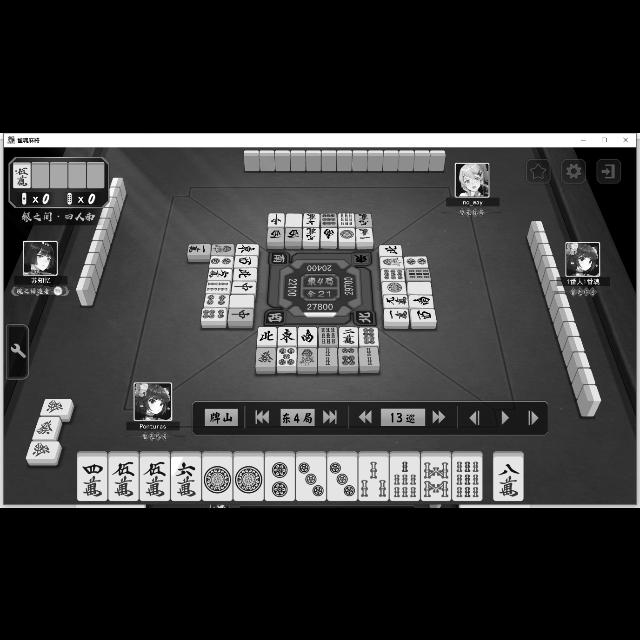1m: (383, 306, 409, 322), (356, 226, 374, 242), (188, 242, 210, 255)
1p: (202, 456, 232, 500), (234, 456, 264, 500), (382, 280, 408, 294), (337, 226, 355, 242)
1s: (296, 346, 318, 368), (211, 242, 235, 256), (380, 256, 404, 268)
2m: (339, 326, 359, 346)
2p: (265, 456, 295, 500), (211, 254, 233, 268), (404, 254, 428, 266)
2s: (318, 346, 338, 366), (360, 346, 380, 366)
3p: (295, 456, 327, 499), (327, 456, 358, 500)
3s: (359, 456, 388, 500)
4m: (77, 456, 107, 498)
4p: (205, 294, 228, 308)
4s: (206, 281, 230, 293)
5m: (108, 454, 140, 500), (140, 456, 168, 499), (14, 162, 31, 188)
5p: (276, 346, 296, 366)
6m: (170, 456, 202, 500), (206, 267, 232, 279)
6p: (339, 346, 358, 366), (200, 307, 226, 321)
7m: (304, 212, 320, 226)
7s: (390, 456, 420, 500)
8m: (493, 456, 523, 500)
8p: (358, 326, 378, 346)
8s: (421, 456, 451, 500)
9m: (384, 293, 408, 307), (356, 210, 372, 226), (304, 226, 320, 242)
9p: (381, 268, 407, 280), (320, 211, 338, 227)
9s: (453, 456, 482, 500), (317, 325, 338, 345), (405, 267, 431, 279), (338, 211, 354, 225)
chun: (228, 306, 254, 322), (230, 280, 256, 294), (268, 212, 284, 226)
haku: (230, 292, 256, 308), (406, 280, 434, 294), (284, 211, 302, 225)
hatsu: (24, 439, 60, 459), (39, 398, 71, 416), (33, 416, 59, 438), (256, 346, 276, 366)
nan: (297, 325, 317, 345), (408, 293, 434, 307), (319, 227, 336, 241)
pe: (258, 324, 276, 346), (379, 244, 403, 256), (234, 267, 256, 279)
sha: (409, 308, 437, 322), (267, 226, 285, 242), (235, 255, 258, 267), (284, 227, 302, 241)
tou: (278, 326, 296, 344), (237, 243, 260, 255)
